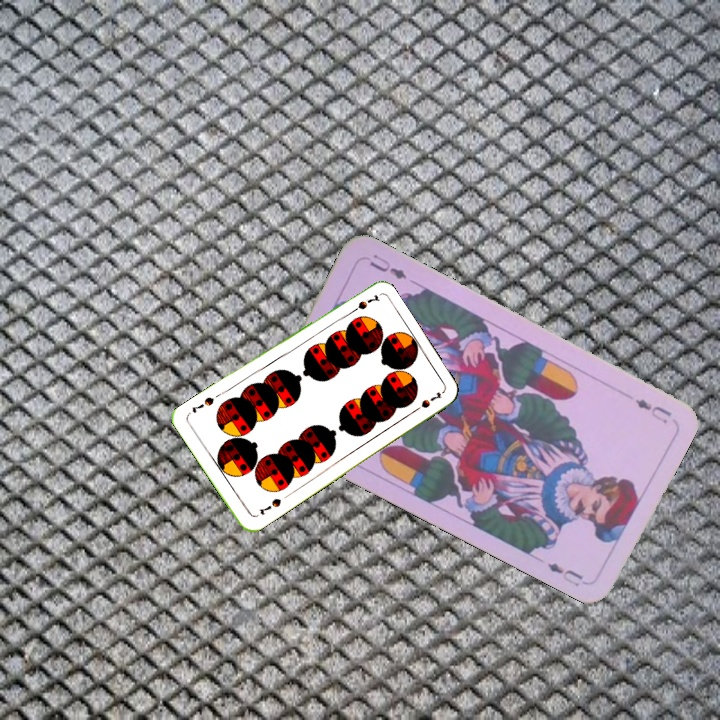EU: (631, 395, 674, 426)
S7: (344, 290, 381, 318), (255, 494, 284, 517)
